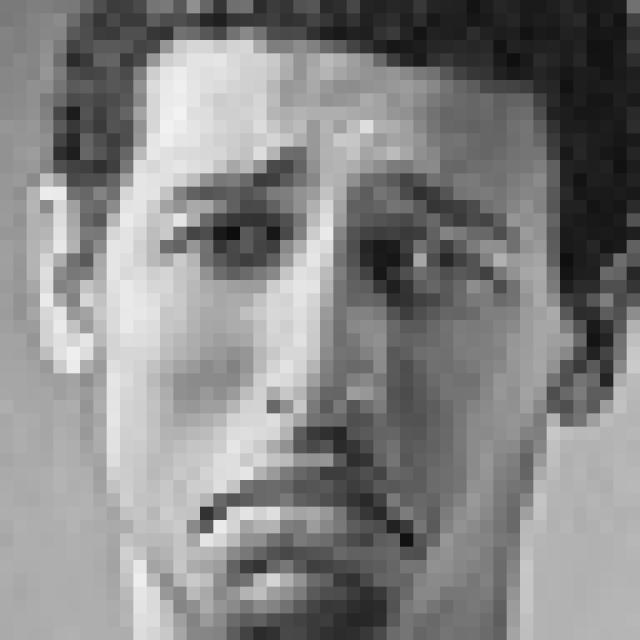sad: (146, 132, 526, 578)
